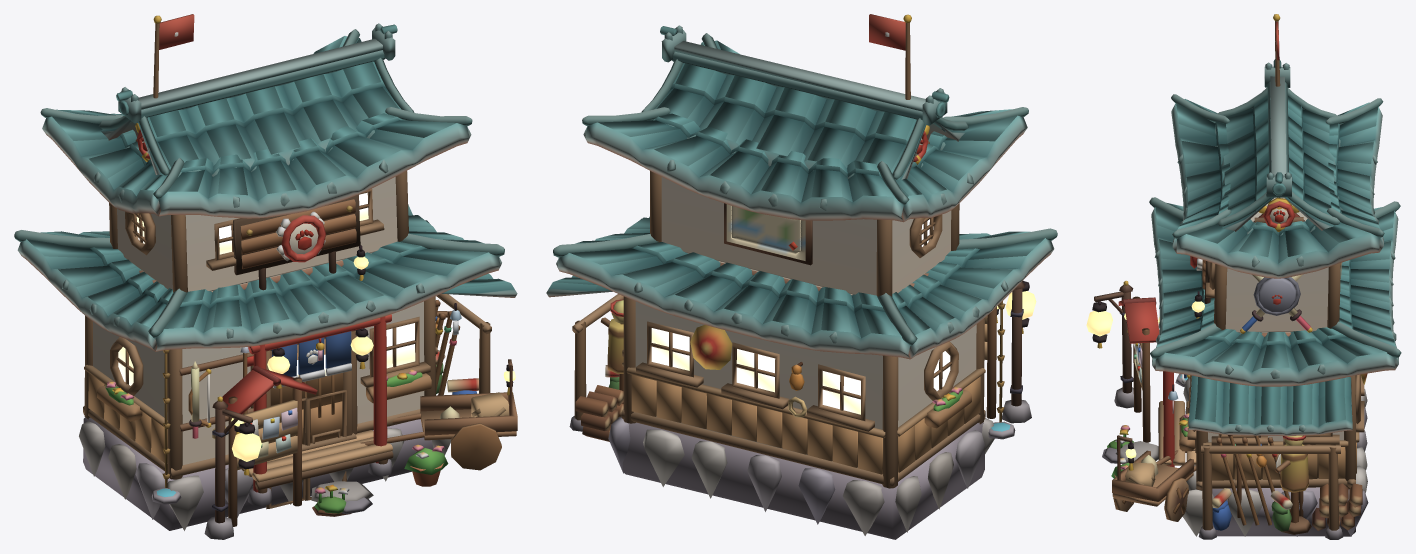
The model's file is guild-1.glb.
3 views of the same model, side by side, from view 1: azimuth 30°, elevation 25°; view 2: azimuth 150°, elevation 25°; view 3: azimuth 270°, elevation 25° (orthographic). The views are drawn at different scales.
Parts seen in each view (by area): view 1: guild, window_glow; view 2: guild, window_glow; view 3: guild, window_glow.
Part boxes in pixels (x1,y1,x2,y2): guild: (14,14,517,539); window_glow: (118,192,515,461); guild: (546,14,1057,539); window_glow: (651,219,1036,414); guild: (1092,14,1401,539); window_glow: (1086,301,1204,458).
Bounding box in the file's own units: 4.65 × 5.45 × 3.69.
